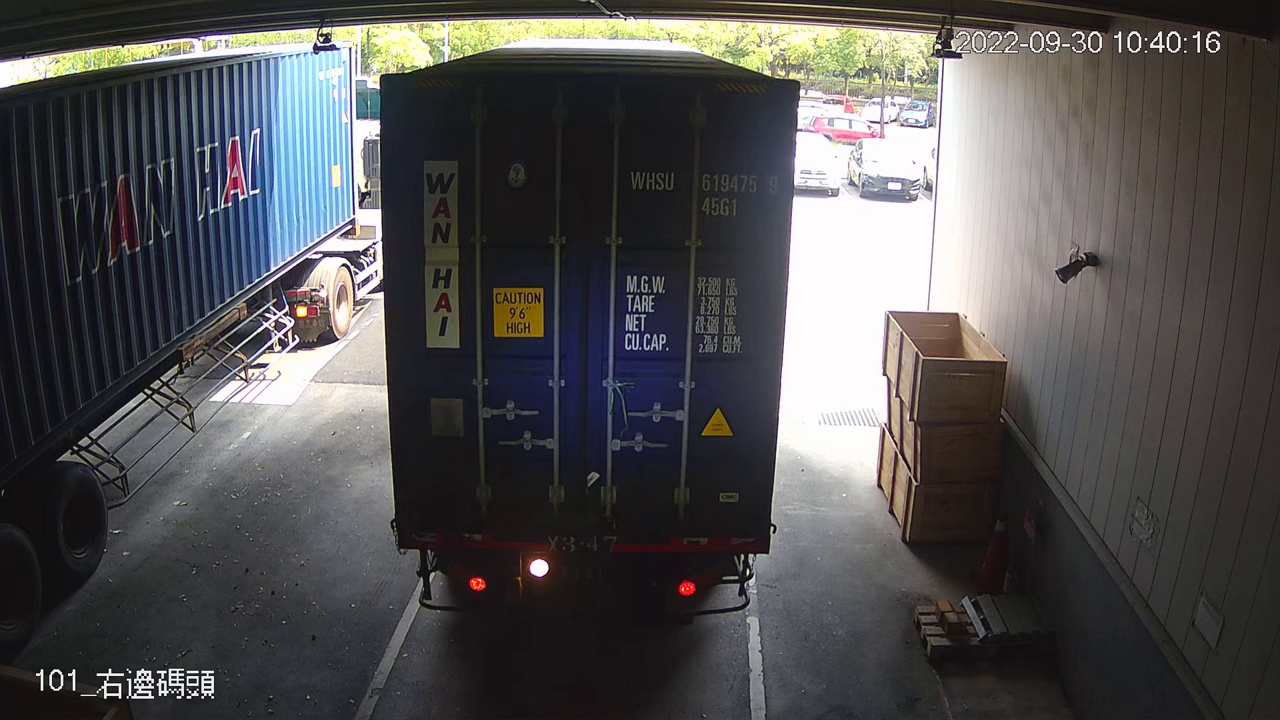container: (622, 166, 784, 222)
